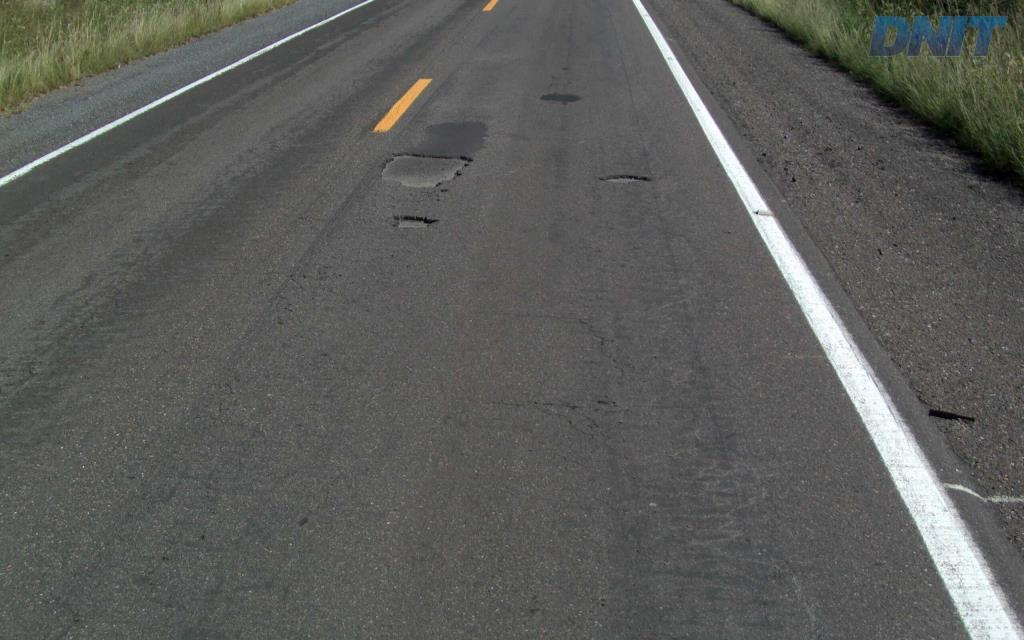pothole: (378, 151, 471, 190), (388, 210, 444, 236), (597, 168, 658, 185)
